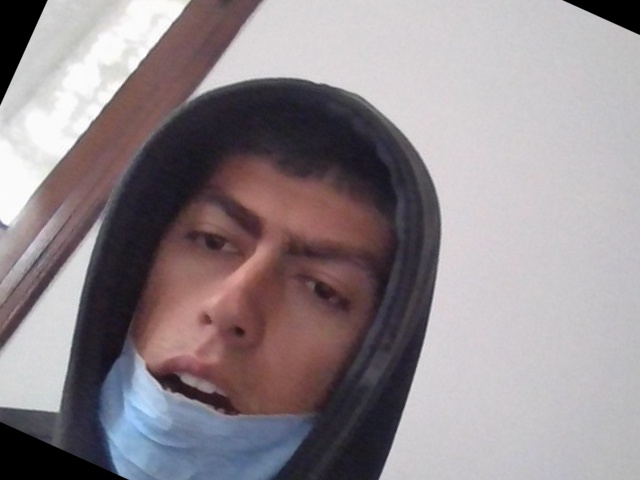mask_weared_incorrect: (77, 136, 421, 480)
